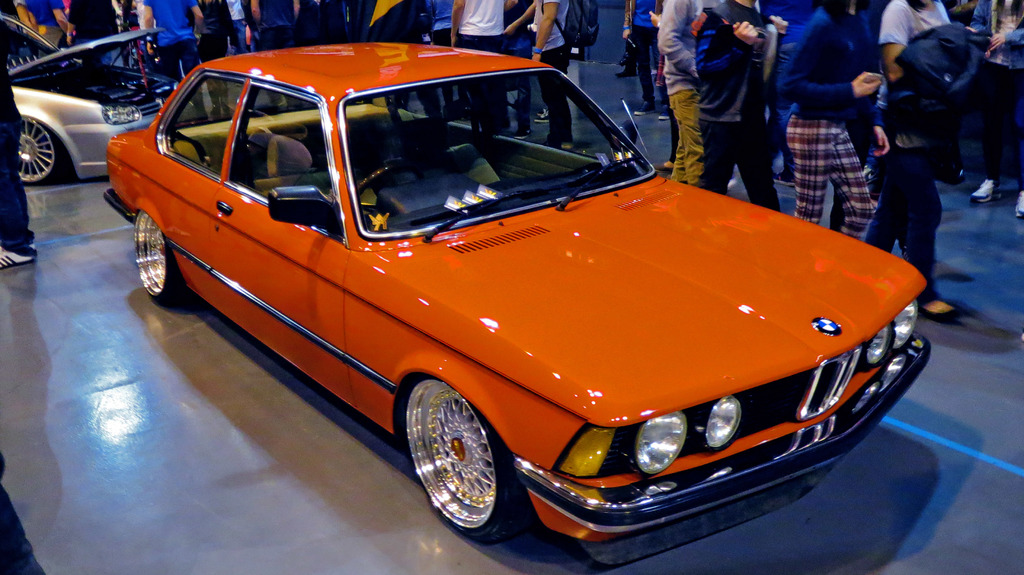Person: (0, 0, 1024, 343)
